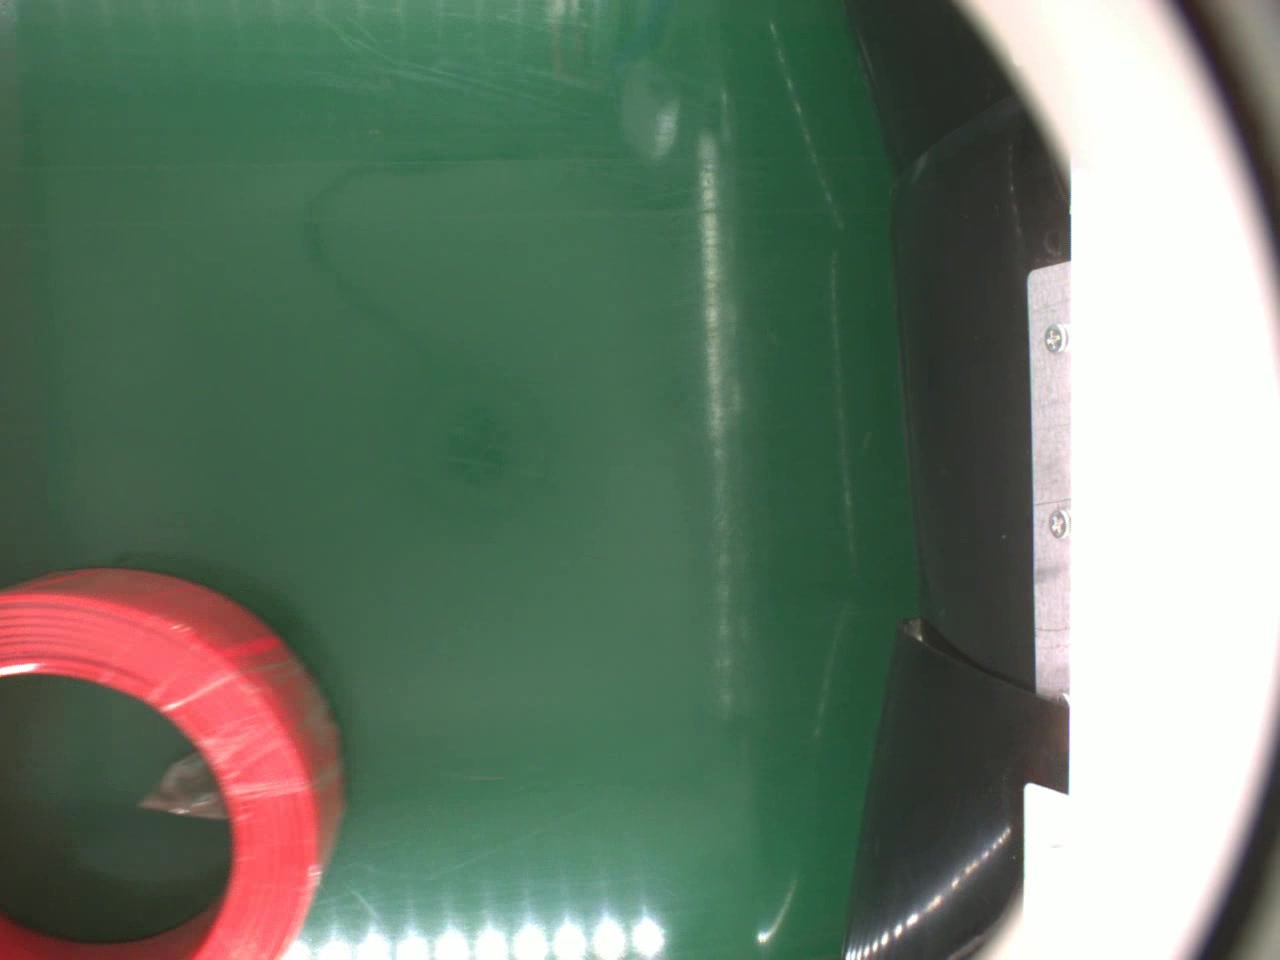red: (0, 563, 346, 960)
